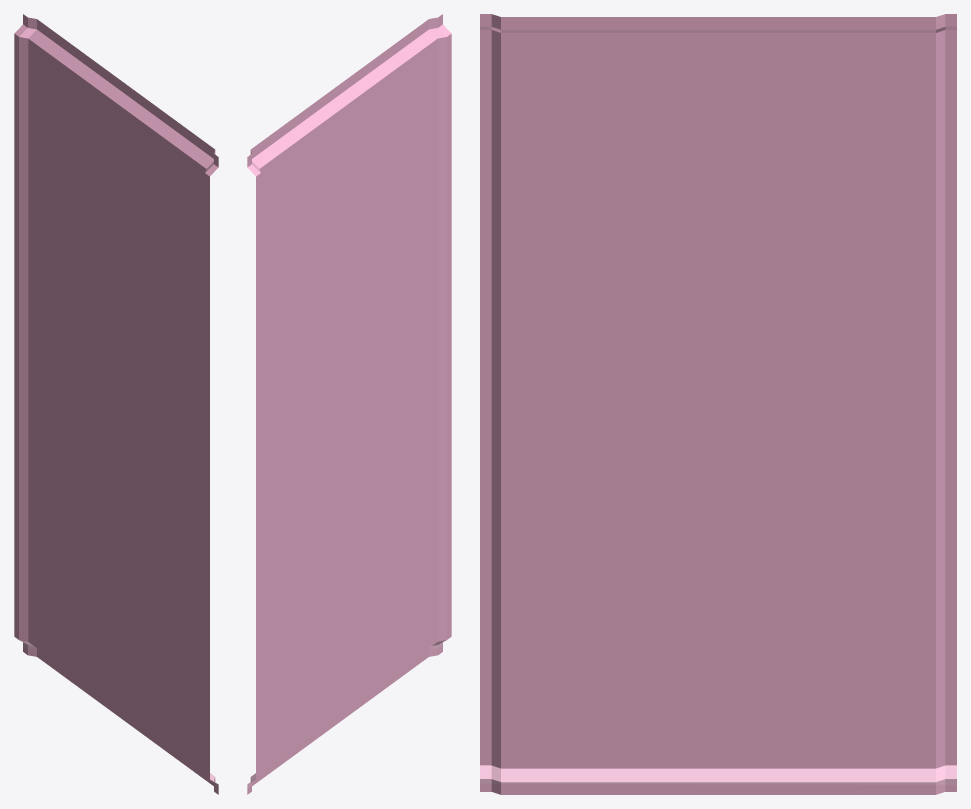
File: WallPanel_Joining.fbx
The picture shows the model from 3 angles, left to right: view 1: azimuth 30°, elevation 25°; view 2: azimuth 150°, elevation 25°; view 3: azimuth 270°, elevation 25°; orthographic projection. The views are drawn at different scales.
Parts seen in each view (by area): view 1: JoiningPanel1; view 2: JoiningPanel1; view 3: JoiningPanel1.
Part boxes in pixels (x1=…): JoiningPanel1: x1=14, y1=14, x2=218, y2=794; JoiningPanel1: x1=247, y1=14, x2=451, y2=794; JoiningPanel1: x1=480, y1=14, x2=956, y2=794.
Bounding box in the file's own units: 8.29 × 360 × 200.
1 material, 1 textured.
